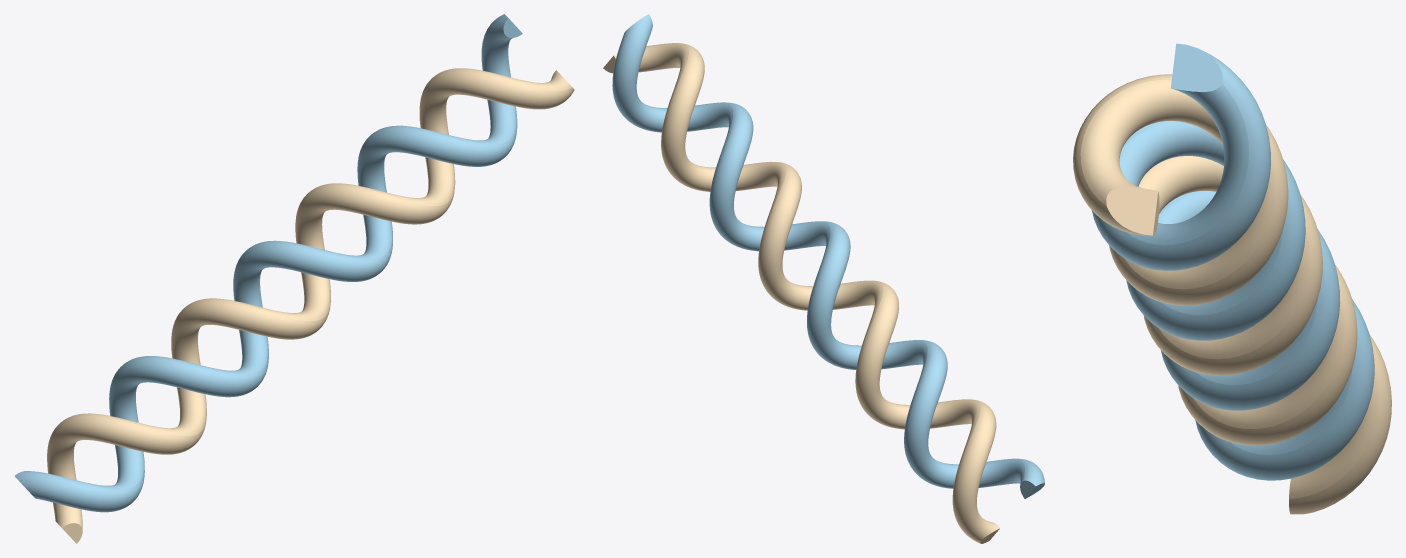
The picture shows the model from 3 angles, left to right: view 1: azimuth 30°, elevation 25°; view 2: azimuth 150°, elevation 25°; view 3: azimuth 270°, elevation 25°; orthographic projection. The views are drawn at different scales.
Visible parts, largest first — view 1: split_parent_2, split_parent_1; view 2: split_parent_1, split_parent_2; view 3: split_parent_1, split_parent_2.
Part boxes in pixels (x1=…): split_parent_2: x1=47, y1=68, x2=574, y2=543; split_parent_1: x1=15, y1=14, x2=522, y2=512; split_parent_1: x1=612, y1=14, x2=1044, y2=498; split_parent_2: x1=603, y1=43, x2=999, y2=543; split_parent_1: x1=1091, y1=43, x2=1374, y2=480; split_parent_2: x1=1073, y1=74, x2=1391, y2=514.
Bounding box in the file's own units: 1 × 0.8391 × 0.2918.
